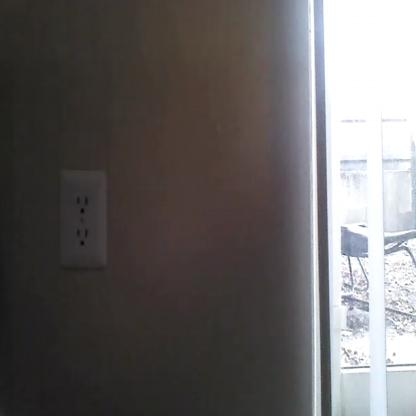OUTLET: (60, 168, 107, 268)
